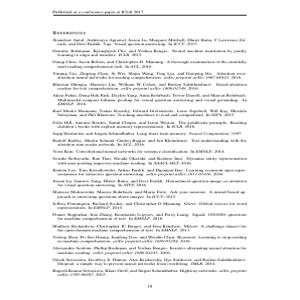text: (46, 24, 256, 279)
